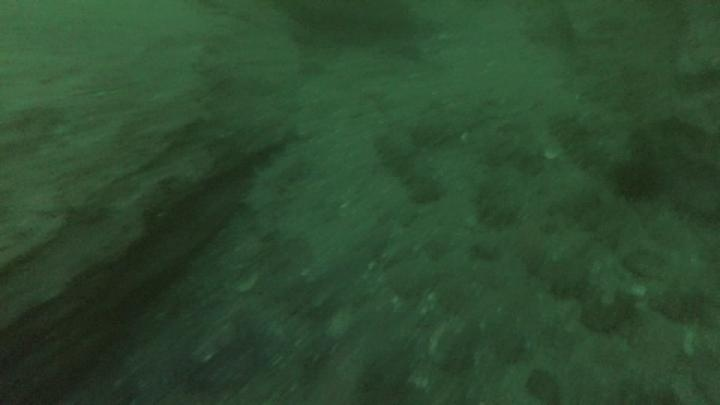echinus: (610, 156, 665, 203)
holothurian: (372, 128, 447, 206), (240, 148, 311, 217), (547, 110, 614, 173), (472, 175, 521, 230)
